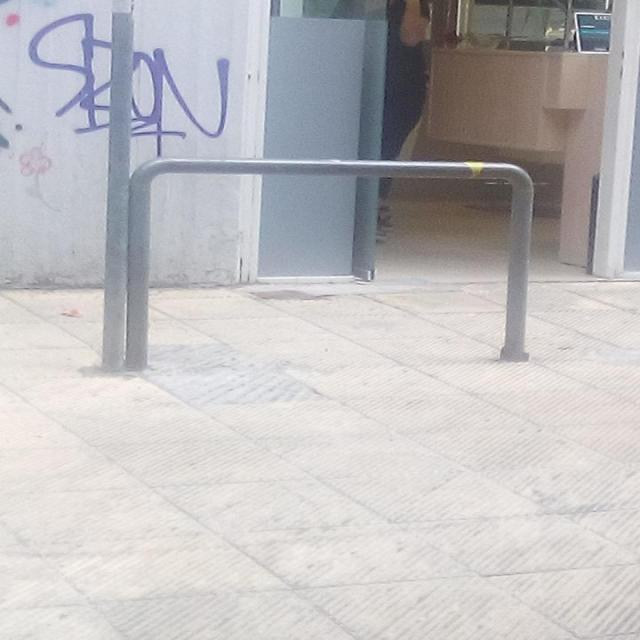nonspitting: (24, 14, 232, 158)
